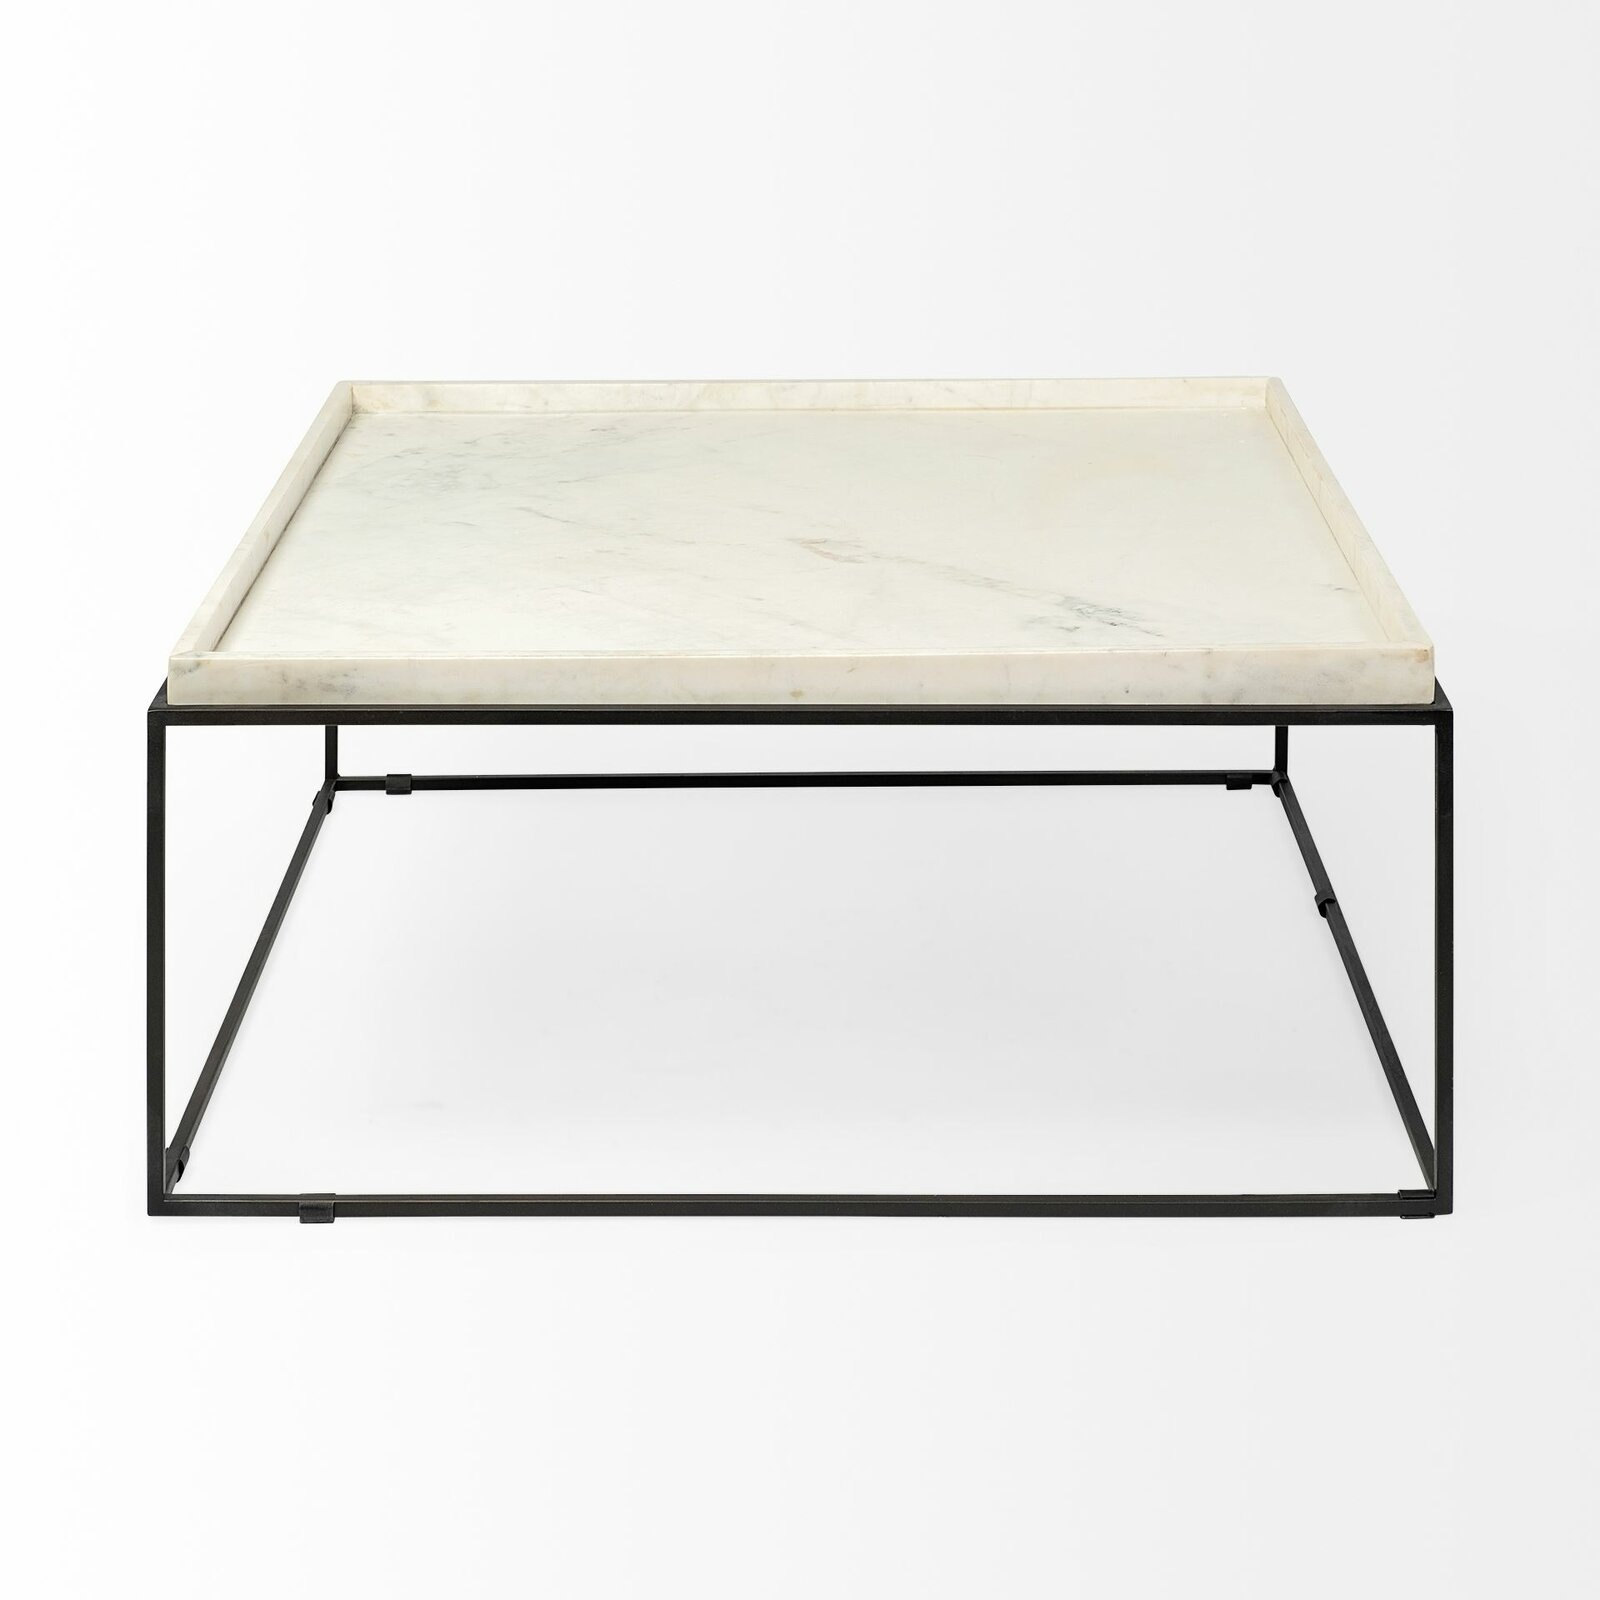obstacle: (147, 378, 1453, 1221)
